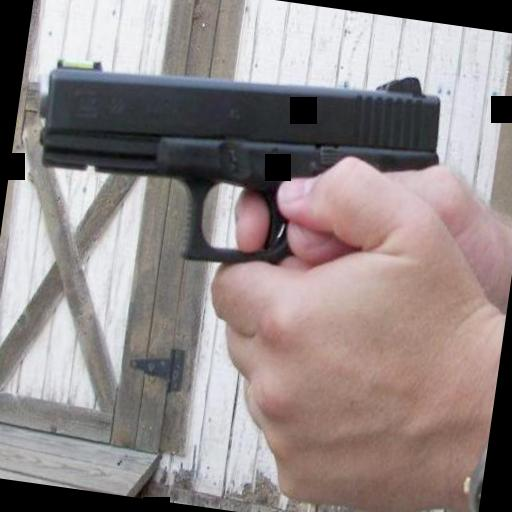Handgun: (20, 21, 450, 293)
